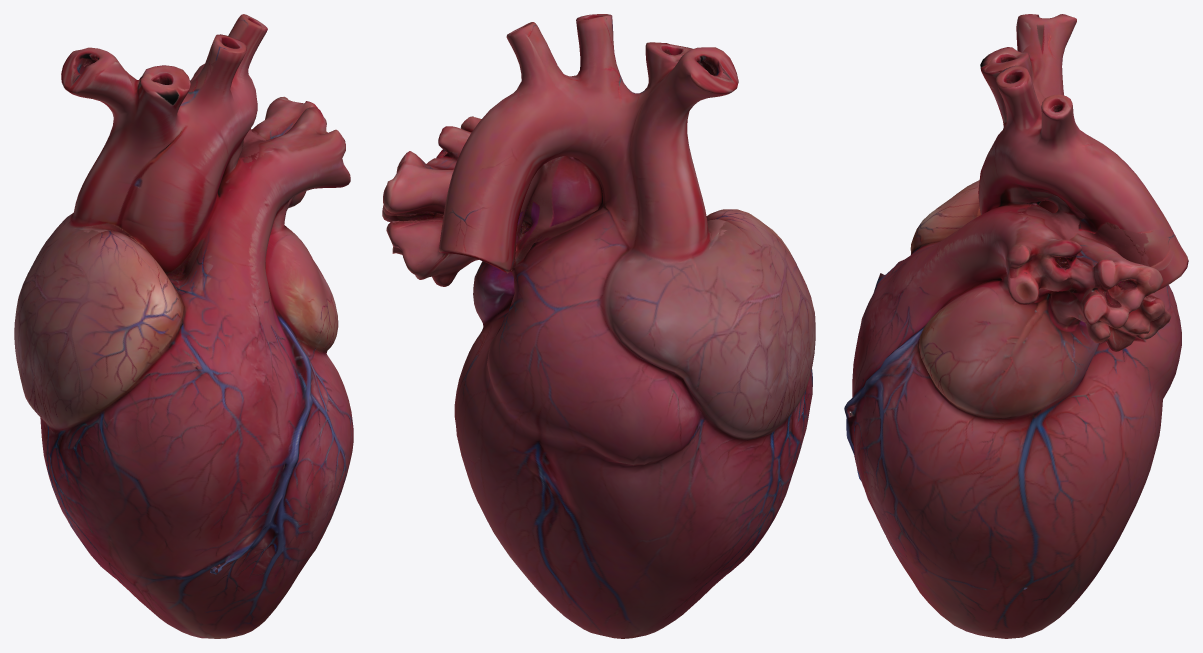
Rendered from Human Heart.fbx.
The picture shows the model from 3 angles, left to right: view 1: azimuth 30°, elevation 25°; view 2: azimuth 150°, elevation 25°; view 3: azimuth 270°, elevation 25°; orthographic projection. The views are drawn at different scales.
Visible parts, largest first — view 1: Heart; view 2: Heart; view 3: Heart.
Part boxes in pixels (x1,y1,x2,y2): Heart: (14, 14, 353, 638); Heart: (382, 14, 815, 638); Heart: (844, 14, 1188, 638).
Size of the model in its own units: 578 by 943 by 514.
Materials: 1 (1 with a texture image).
